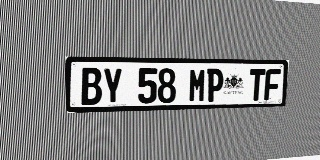5: (138, 68, 157, 104)
8: (158, 68, 176, 103)
B: (80, 68, 102, 105)
F: (264, 69, 281, 100)
M: (188, 68, 207, 102)
P: (206, 68, 224, 102)
T: (248, 69, 266, 101)
Y: (102, 68, 123, 105)
